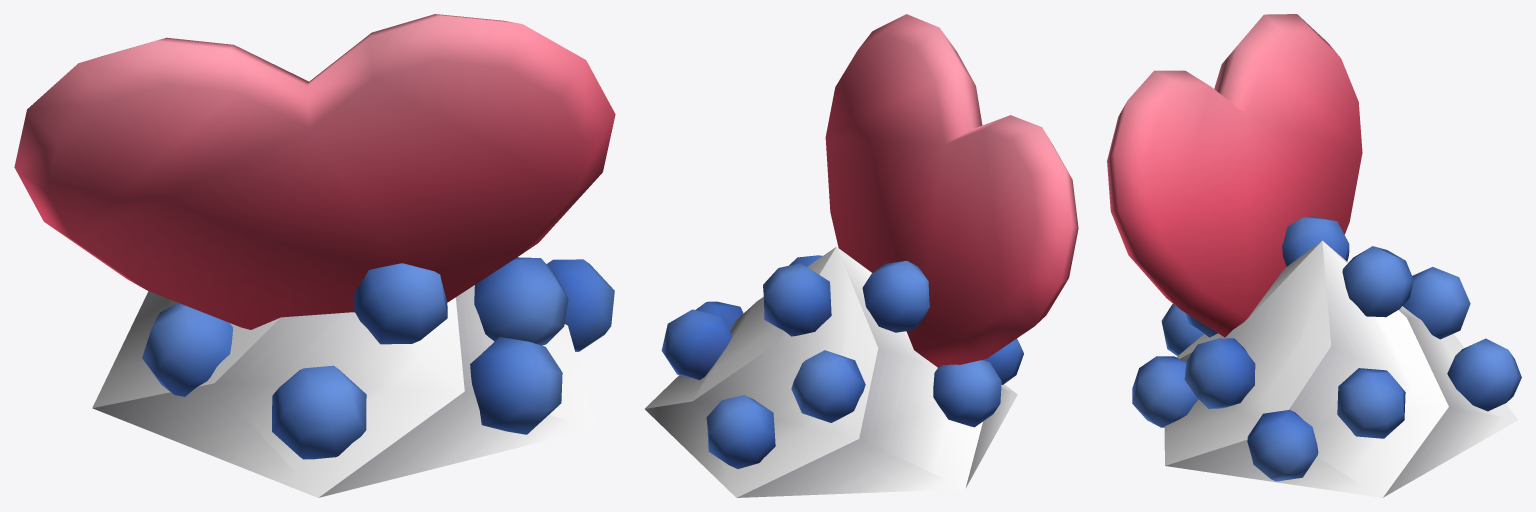
The model's file is m_RainbowCake01_Deco.fbx.
The picture shows the model from 3 angles, left to right: view 1: azimuth 30°, elevation 25°; view 2: azimuth 150°, elevation 25°; view 3: azimuth 270°, elevation 25°; orthographic projection. The views are drawn at different scales.
Parts seen in each view (by area): view 1: m_RainbowCake01_Deco; view 2: m_RainbowCake01_Deco; view 3: m_RainbowCake01_Deco.
Boxes of the visible parts, box(x1,y1,x2,y2) form: m_RainbowCake01_Deco: box(14, 14, 615, 497); m_RainbowCake01_Deco: box(645, 14, 1078, 497); m_RainbowCake01_Deco: box(1107, 14, 1521, 497).
Bounding box in the file's own units: 9.17 × 7.36 × 8.14.
